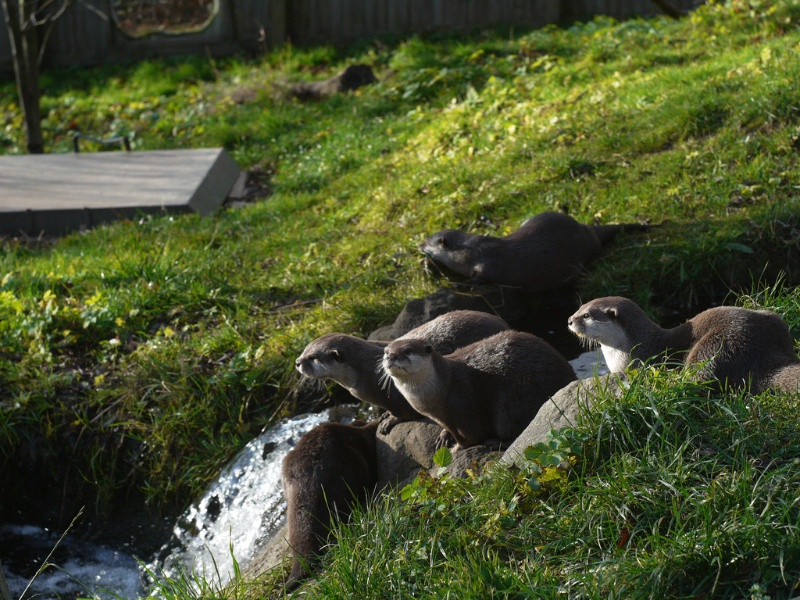minkish: (297, 305, 516, 427), (565, 293, 800, 406), (377, 326, 580, 450), (416, 215, 651, 291)
